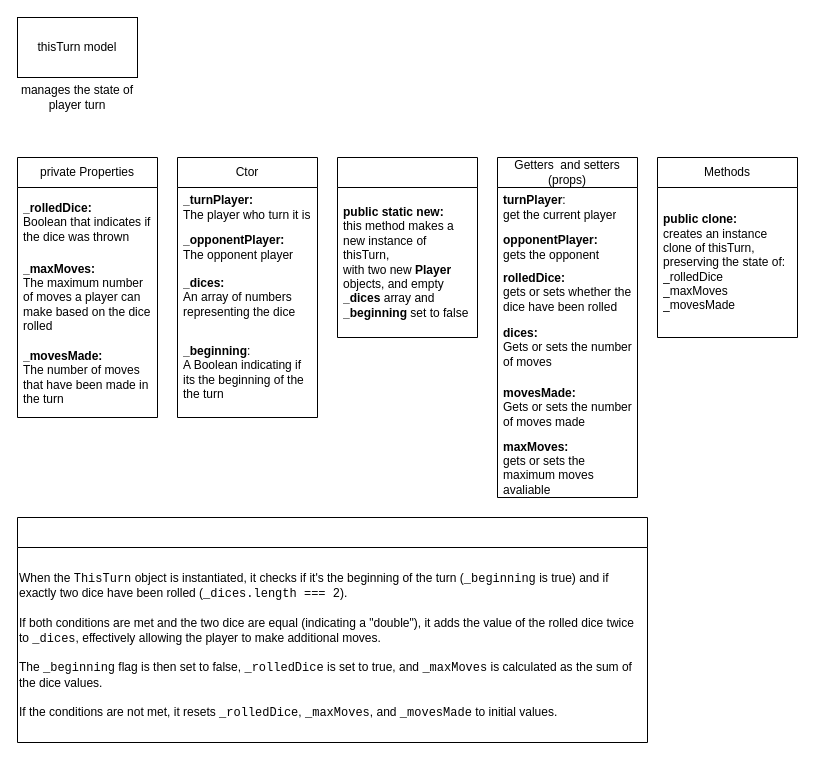
The diagram is 815 pixels wide and 760 high, and some of its shapes have lost their labels. The box of each missing label's shape, as (x1, y1, x2, y2) in pixels:
Ctor Logic: (16, 516, 648, 742)
Static Methods: (336, 156, 478, 338)
